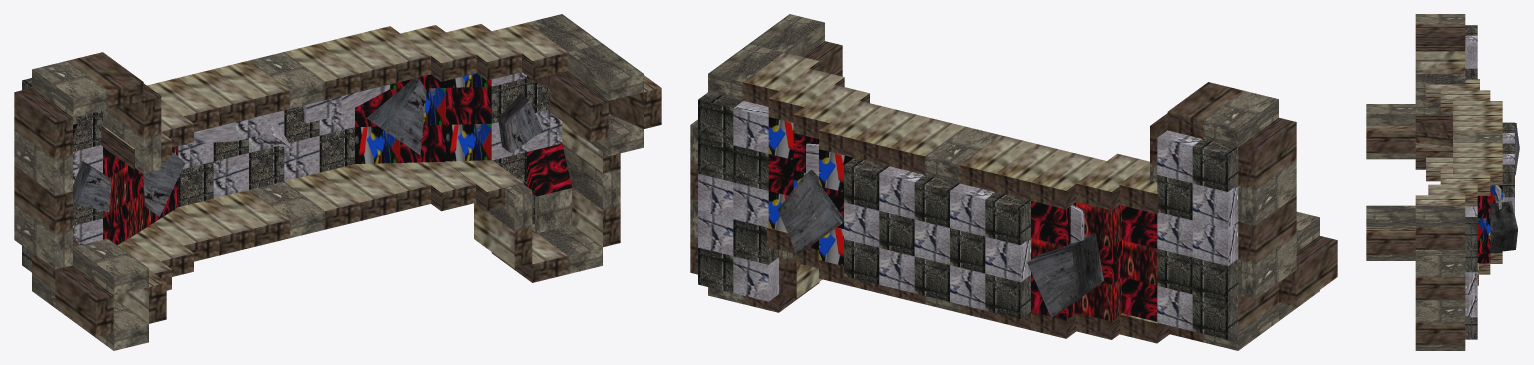
File: tdmtest3.glb
The picture shows the model from 3 angles, left to right: view 1: azimuth 30°, elevation 25°; view 2: azimuth 150°, elevation 25°; view 3: azimuth 270°, elevation 25°; orthographic projection. The views are drawn at different scales.
Parts seen in each view (by area): view 1: Cube.6761, Cube.6799, Cube.6712, Cube.6800, Cube.6723, Cube.6782, Cube.6824, Cube.6780, Cube.6788, Cube.6781, Cube.6713, Cube.6768 (+72 smaller); view 2: Cube.6823, Cube.6824, Cube.6712, Cube.6723, Cube.6761, Cube.6774, Cube.6769, Cube.6768, Cube.6713, Cube.6773, Cube.6704, Cube.6779 (+73 smaller); view 3: Cube.6759, Cube.6770, Cube.6809, Cube.6801, Cube.6824, Cube.6796, Cube.6797, Cube.6703, Cube.6795, Cube.6808, Cube.6793, Cube.6800 (+46 smaller).
Boxes of the visible parts, x1,y1,x2,y2 form: Cube.6761: [55, 265, 113, 336]; Cube.6799: [550, 71, 608, 141]; Cube.6712: [14, 88, 72, 158]; Cube.6800: [567, 44, 643, 100]; Cube.6723: [32, 60, 108, 117]; Cube.6782: [73, 238, 148, 295]; Cube.6824: [366, 78, 426, 154]; Cube.6780: [401, 25, 476, 81]; Cube.6788: [492, 22, 567, 79]; Cube.6781: [446, 24, 521, 80]; Cube.6713: [14, 129, 72, 195]; Cube.6768: [14, 166, 72, 232]; Cube.6823: [1027, 233, 1103, 317]; Cube.6824: [778, 169, 843, 254]; Cube.6712: [1238, 118, 1296, 188]; Cube.6723: [1203, 90, 1278, 147]; Cube.6761: [1279, 236, 1337, 306]; Cube.6774: [1031, 152, 1106, 209]; Cube.6769: [1238, 233, 1296, 299]; Cube.6768: [1238, 196, 1296, 262]; Cube.6713: [1238, 159, 1296, 225]; Cube.6773: [1076, 153, 1149, 210]; Cube.6704: [925, 126, 1000, 183]; Cube.6779: [819, 101, 894, 157]; Cube.6759: [1366, 125, 1415, 153]; Cube.6770: [1415, 46, 1465, 73]; Cube.6809: [1415, 250, 1465, 277]; Cube.6801: [1366, 227, 1415, 254]; Cube.6824: [1490, 201, 1517, 252]; Cube.6796: [1415, 300, 1465, 322]; Cube.6797: [1415, 227, 1465, 249]; Cube.6703: [1415, 24, 1465, 46]; Cube.6795: [1415, 322, 1465, 344]; Cube.6808: [1415, 277, 1465, 299]; Cube.6793: [1415, 205, 1465, 227]; Cube.6800: [1366, 205, 1415, 227].
Size of the model in its own units: 320 by 160 by 124.
9 materials, 9 textured.
